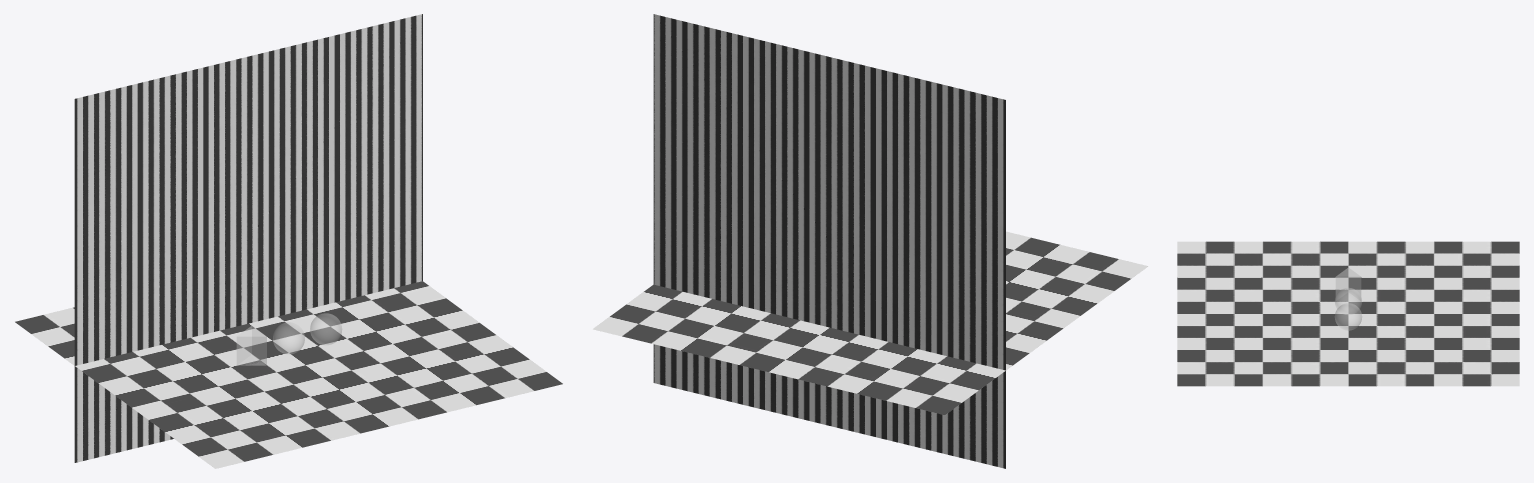
The model's file is glass_lab.glb.
3 views of the same model, side by side, from view 1: azimuth 30°, elevation 25°; view 2: azimuth 150°, elevation 25°; view 3: azimuth 270°, elevation 25° (orthographic). The views are drawn at different scales.
Parts seen in each view (by area): view 1: Backdrop, Floor, Prism, Sphere_Clear, Sphere_Tint; view 2: Backdrop, Floor; view 3: Floor, Prism, Sphere_Tint, Sphere_Clear.
Boxes of the visible parts, x1,y1,x2,y2 form: Backdrop: (74,14,422,462); Floor: (15,281,562,468); Prism: (237,326,266,365); Sphere_Clear: (273,322,304,353); Sphere_Tint: (310,313,341,344); Backdrop: (653,14,1005,468); Floor: (593,231,1147,415); Floor: (1177,241,1519,386); Prism: (1336,267,1360,300); Sphere_Tint: (1335,303,1361,330); Sphere_Clear: (1335,288,1361,314).
Size of the model in its own units: 30 by 30 by 30.
5 materials, 2 textured.
